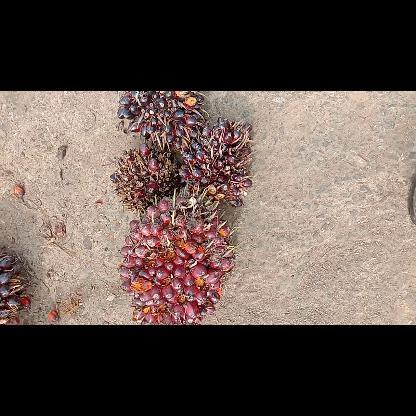TBS abnormal: (177, 116, 253, 208), (117, 91, 205, 149), (110, 143, 178, 211)
TBS masak: (118, 188, 235, 324)
